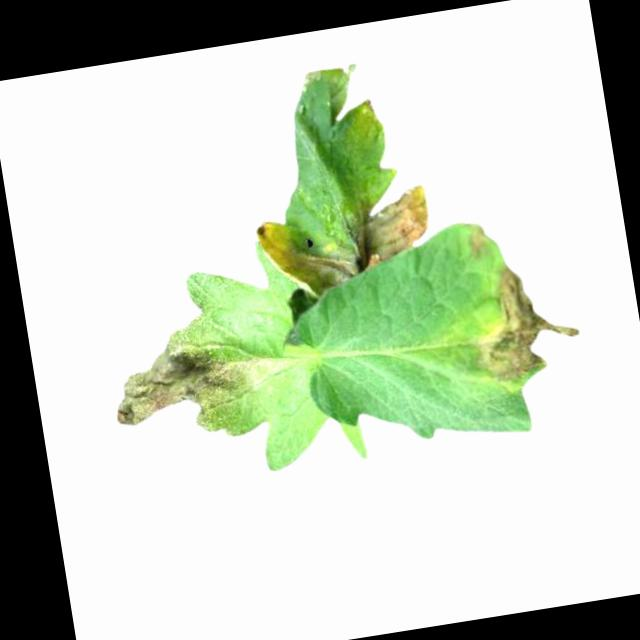Late_blight: (251, 180, 441, 306), (103, 318, 275, 454), (460, 256, 589, 387), (464, 220, 491, 259)
